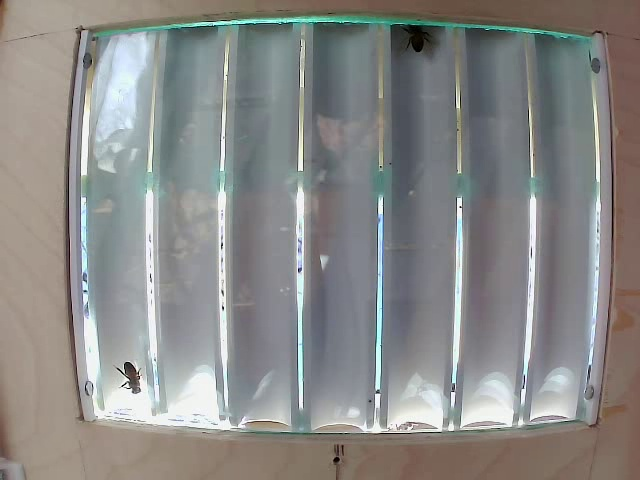bee: (395, 10, 443, 68), (109, 349, 158, 386)
